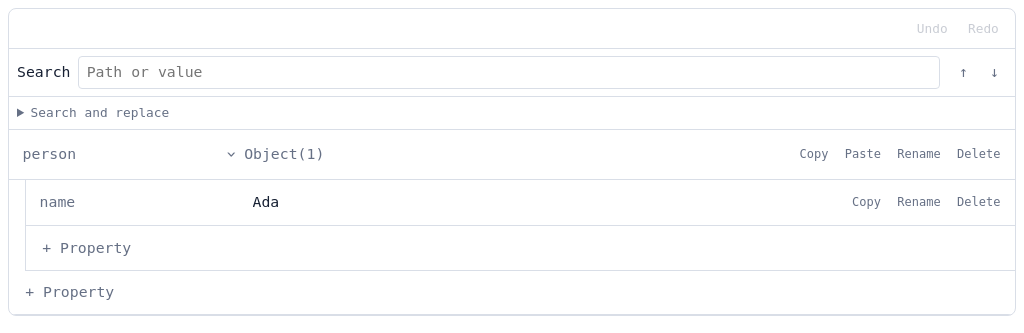
Test: ObjectEditor › collapses and expands containers with a native button
Expected: the field named "person.name" is shown, x1=244 y1=186 x2=830 y2=220
Click the button with aria-label "Collapse person": (275, 154) x1=218 y1=136 x2=332 y2=173
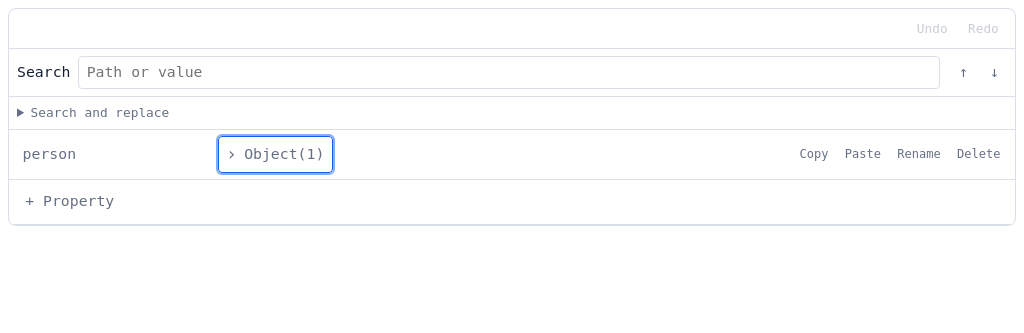
Click the button with aria-label "Expand person": (275, 154) x1=218 y1=136 x2=332 y2=173
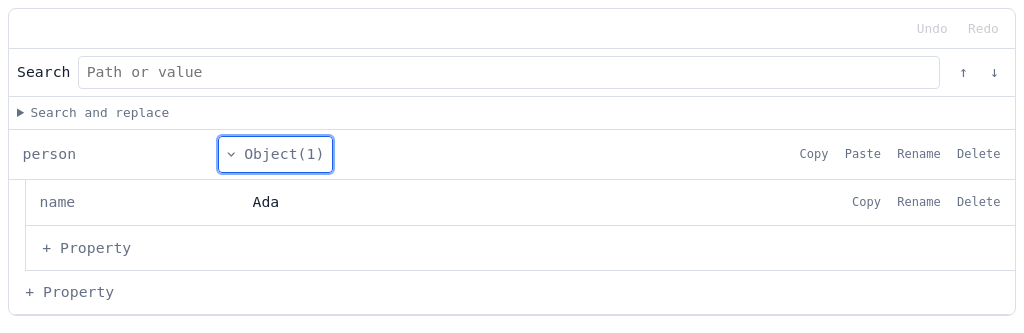
Expected: the field named "person.name" is shown, x1=244 y1=186 x2=830 y2=220
